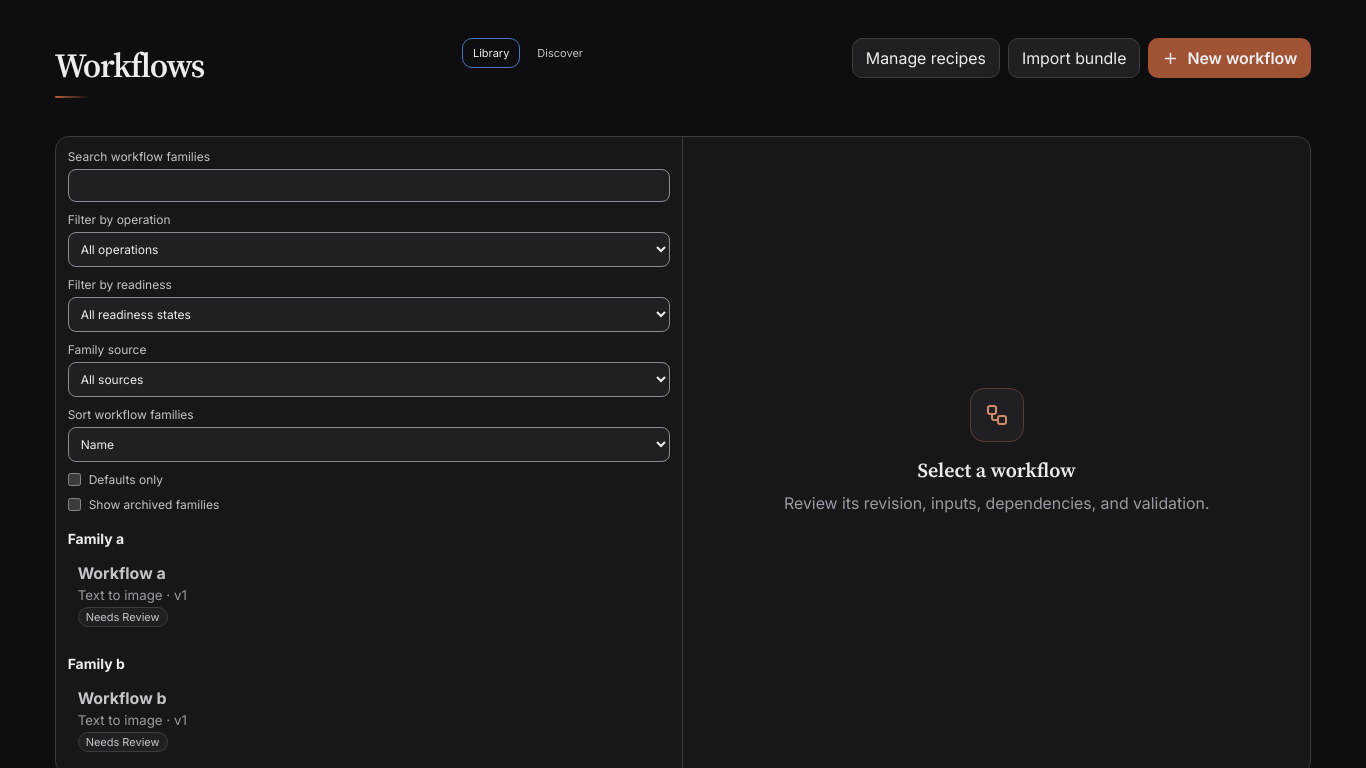
Test: workflow family dependencies › distinguishes earlier-revision bindings and filters current revisions without refetching
Click the text "Workflow a": (122,573) [78,563,166,583]
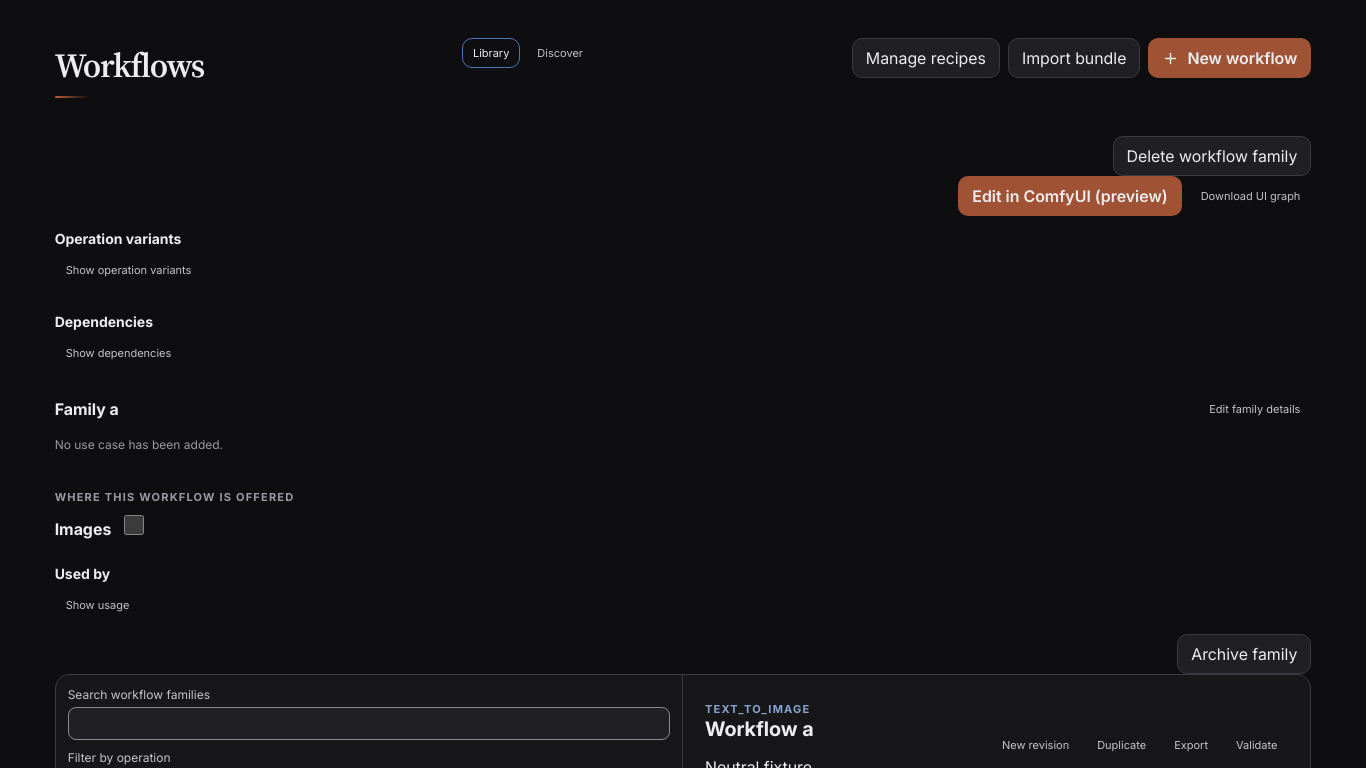
Click the button "Show dependencies": (118,353) [55,338,182,368]
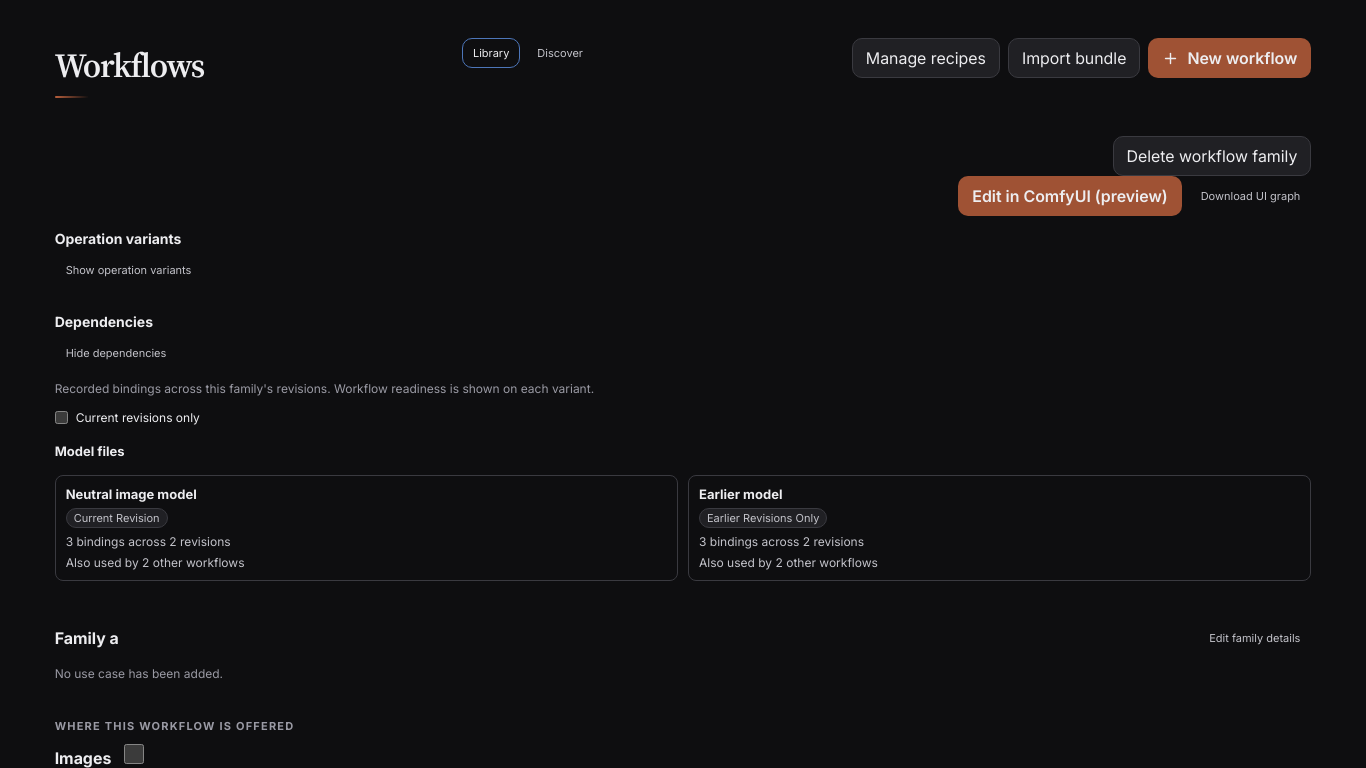
Now the text "Earlier model" is shown, box [699,486,782,502]
Now the text "Earlier revisions only" is shown, box [699,508,827,528]
Click the checkbox labelled "Current revisions only": (61,418) [55,411,68,424]
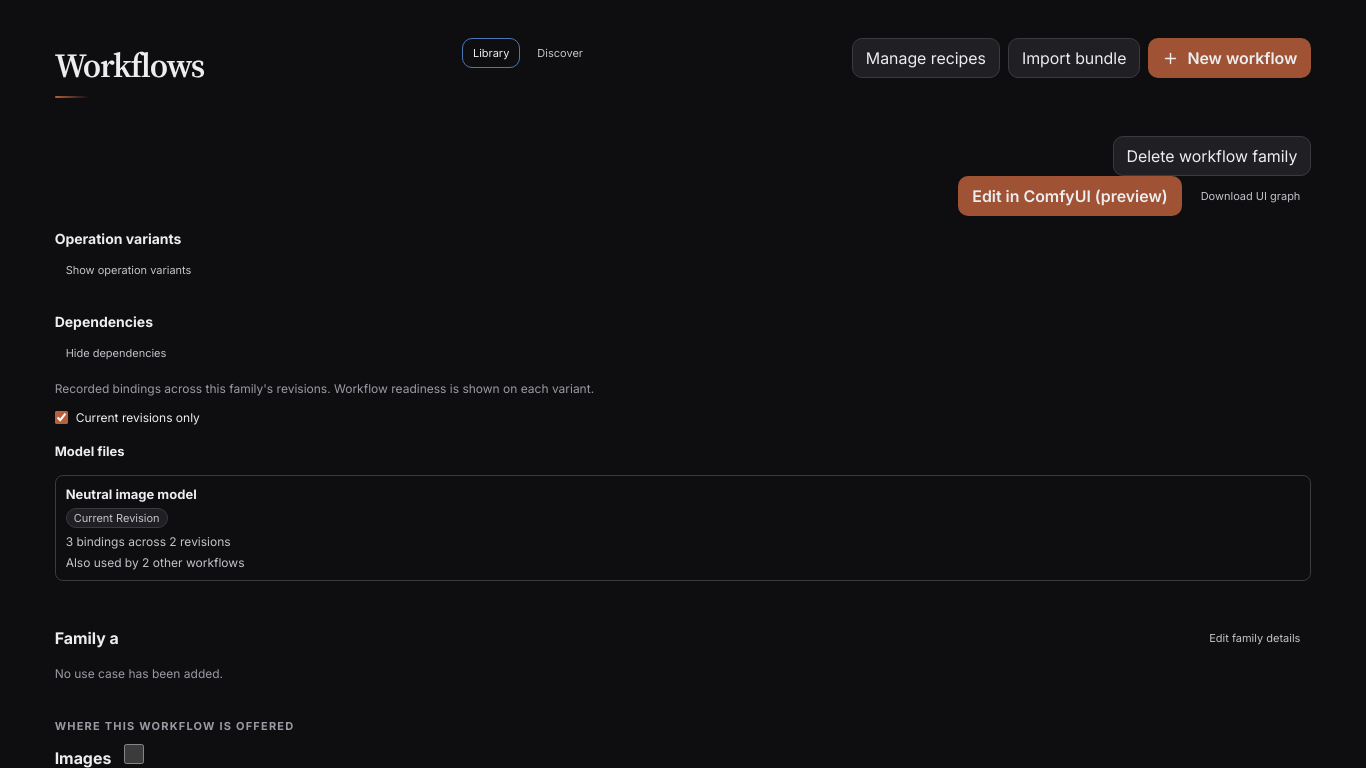
Now the text "Neutral image model" is shown, box [66,486,197,502]
Now the text "Earlier model" is gone
Click the checkbox labelled "Current revisions only": (61,418) [55,411,68,424]
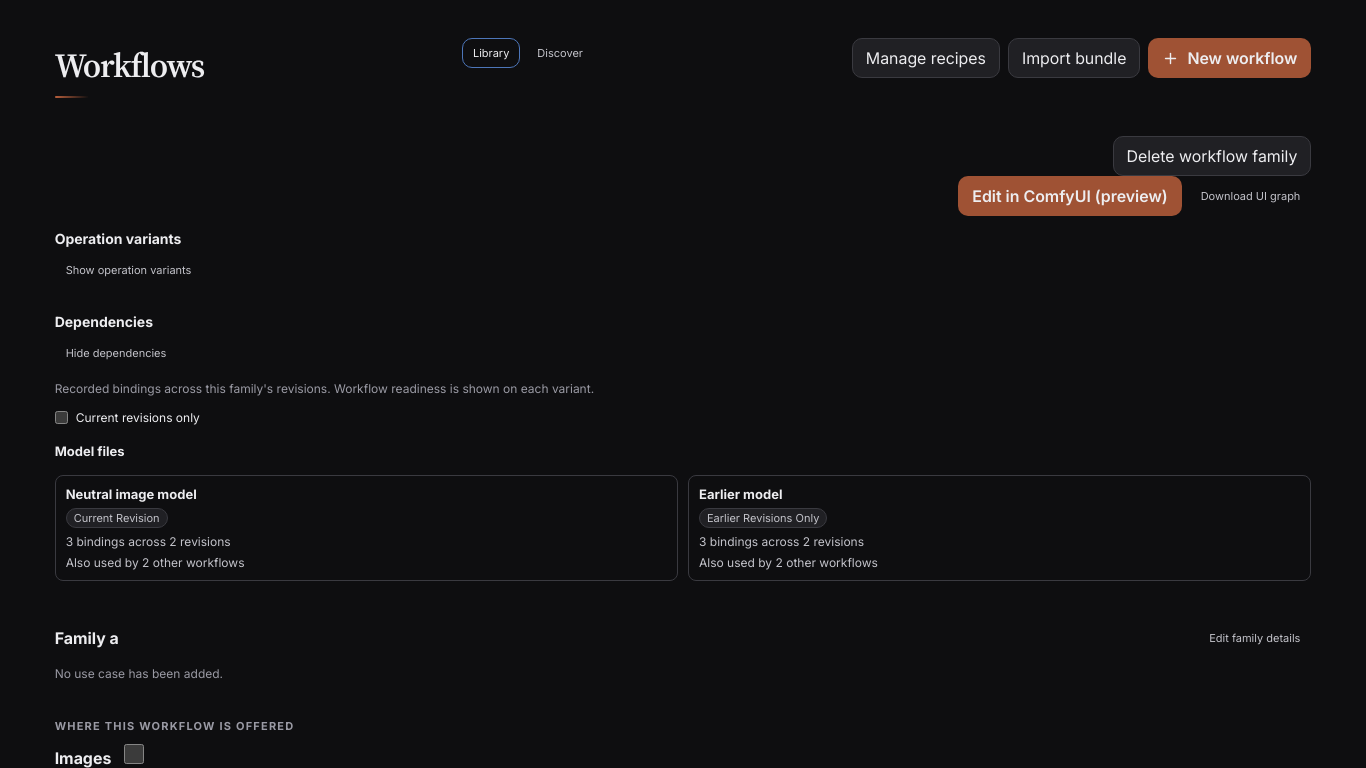
Now the text "Earlier model" is shown, box [699,486,782,502]
